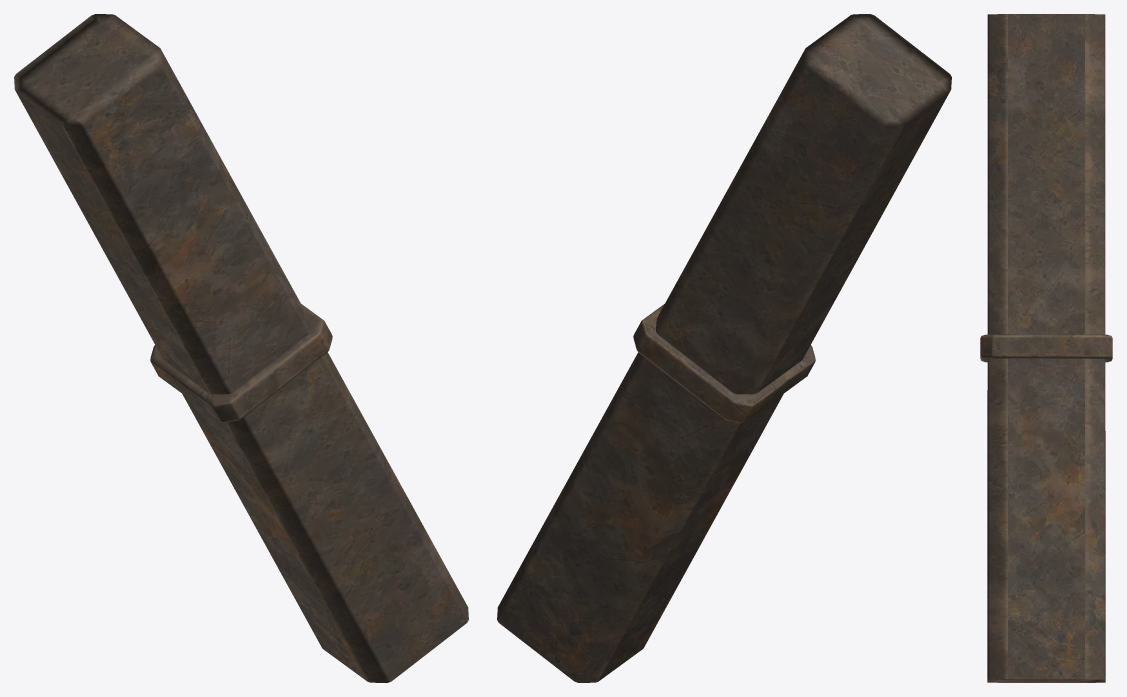
3 views of the same model, side by side, from view 1: azimuth 30°, elevation 25°; view 2: azimuth 150°, elevation 25°; view 3: azimuth 270°, elevation 25° (orthographic). The views are drawn at different scales.
Parts seen in each view (by area): view 1: SM_BB_T3_Extended_Beam_Thin_Med_Steep_LOD0; view 2: SM_BB_T3_Extended_Beam_Thin_Med_Steep_LOD0; view 3: SM_BB_T3_Extended_Beam_Thin_Med_Steep_LOD0.
Part boxes in pixels (<box>): SM_BB_T3_Extended_Beam_Thin_Med_Steep_LOD0: <box>14,14,468,682</box>; SM_BB_T3_Extended_Beam_Thin_Med_Steep_LOD0: <box>497,14,951,682</box>; SM_BB_T3_Extended_Beam_Thin_Med_Steep_LOD0: <box>980,14,1112,682</box>.
Size of the model in its own units: 1.01 by 1.63 by 0.3368.
Materials: 1 (1 with a texture image).
